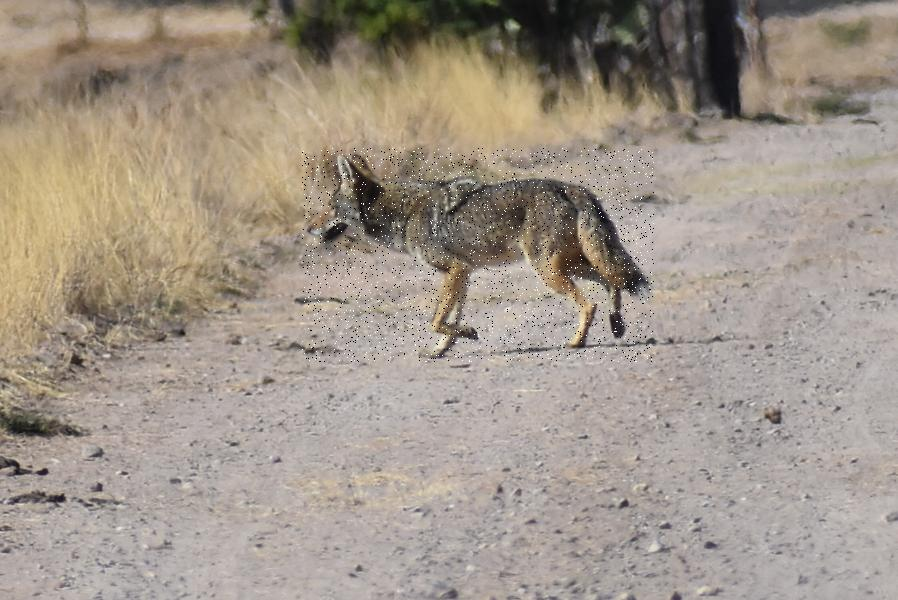Coyote: (302, 148, 654, 362)
